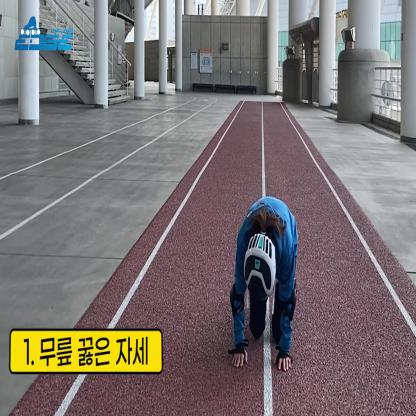Fall_Down: (231, 193, 301, 374)
